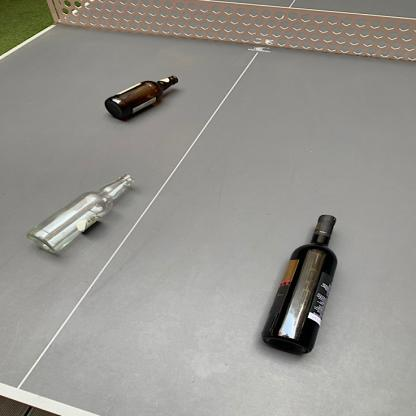trash: (262, 215, 350, 359), (26, 171, 136, 260), (98, 76, 184, 128)
